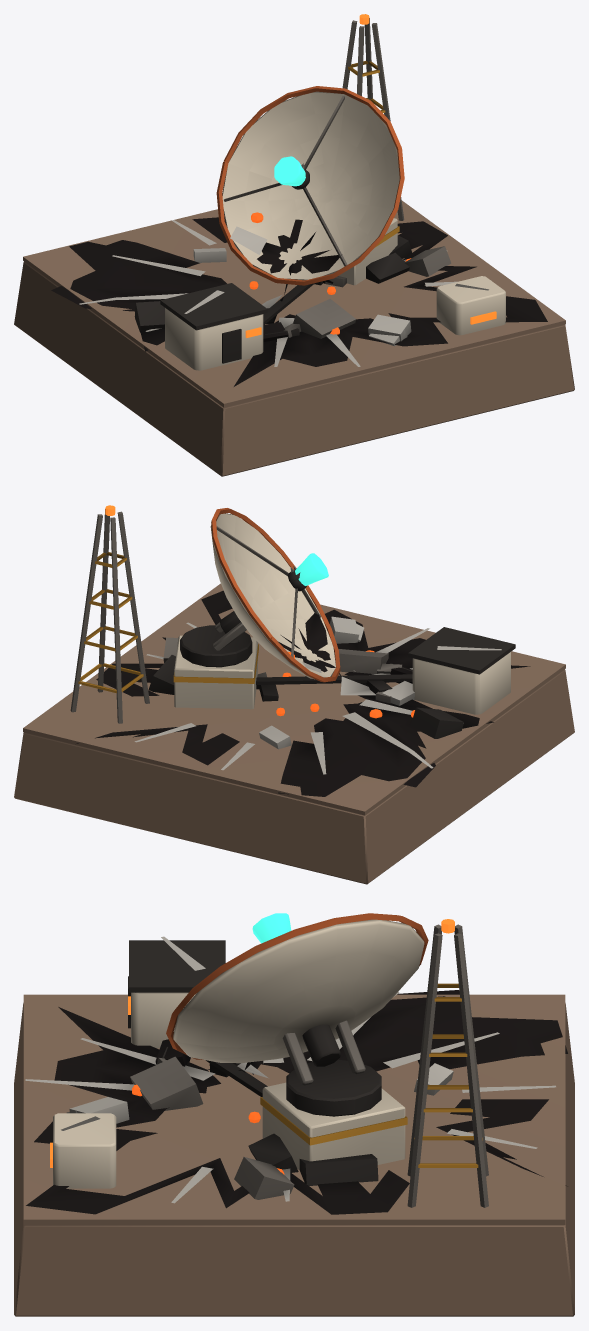
The model's file is relay-station-khepri.glb.
3 renders of one model, top to bottom at view 1: azimuth 30°, elevation 25°; view 2: azimuth 150°, elevation 25°; view 3: azimuth 270°, elevation 25°, orthographic. The views are drawn at different scales.
Visible parts, largest first — view 1: site_relay_station_khepri_body, site_relay_station_khepri_ruin, site_relay_station_khepri_core; view 2: site_relay_station_khepri_body, site_relay_station_khepri_ruin, site_relay_station_khepri_core; view 3: site_relay_station_khepri_body, site_relay_station_khepri_ruin, site_relay_station_khepri_core.
Part boxes in pixels (<box>): site_relay_station_khepri_body: <box>14,14,574,476</box>; site_relay_station_khepri_ruin: <box>51,163,547,386</box>; site_relay_station_khepri_core: <box>274,156,309,189</box>; site_relay_station_khepri_body: <box>14,505,574,884</box>; site_relay_station_khepri_ruin: <box>76,566,530,796</box>; site_relay_station_khepri_core: <box>288,553,328,591</box>; site_relay_station_khepri_body: <box>14,913,574,1316</box>; site_relay_station_khepri_ruin: <box>25,936,567,1214</box>; site_relay_station_khepri_core: <box>252,913,291,943</box>.
Size of the model in its own units: 5.73 by 4.1 by 5.75.
